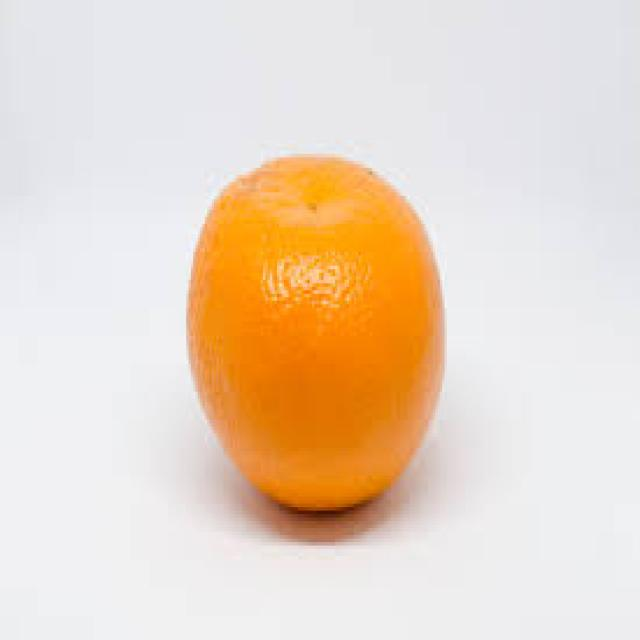orange: (182, 151, 448, 517)
